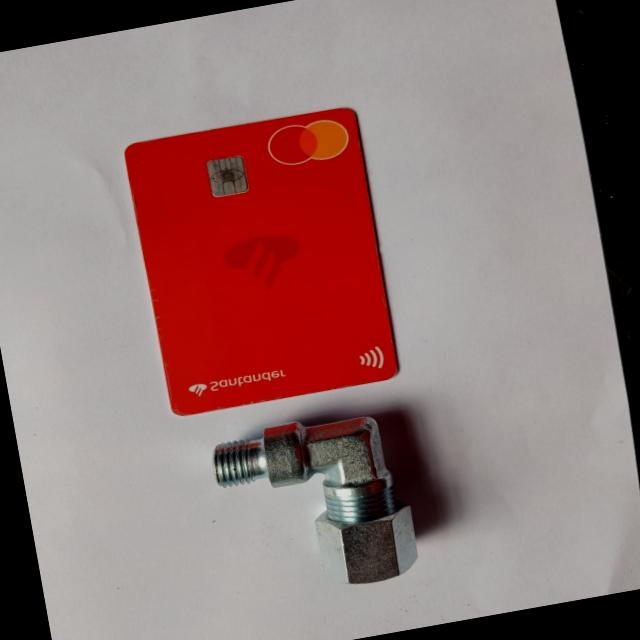cartao: (122, 104, 400, 418)
rosca_externa: (206, 404, 421, 607)
